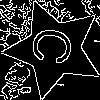C: (29, 24, 84, 71)
